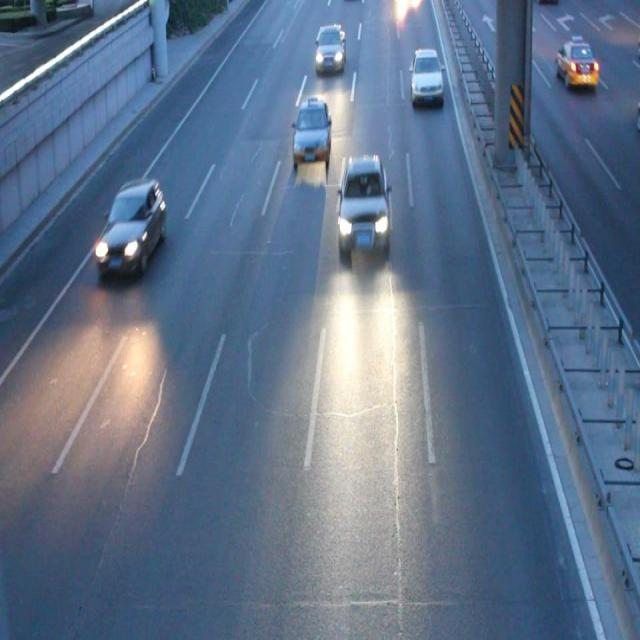car: (100, 180, 166, 273), (338, 154, 388, 256), (292, 102, 330, 163), (554, 41, 596, 85), (409, 48, 442, 100), (314, 26, 344, 70)
